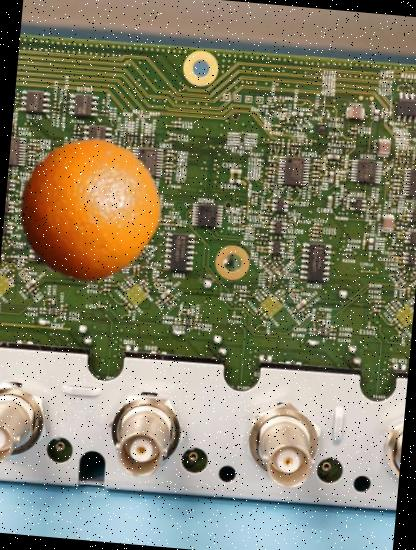Orange: (10, 132, 166, 288)
